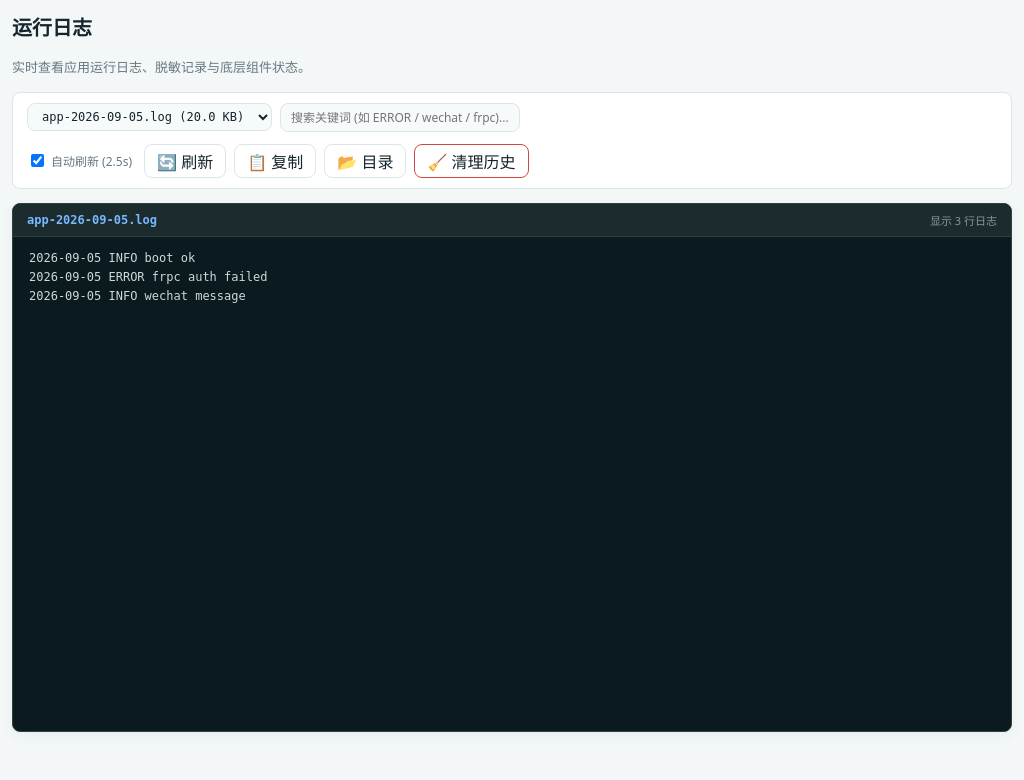
LogsView › 无匹配时显示空态占位文案
Type "不存在的词" into the field with class "input-search". click: (400, 117)
box: [280,103,520,132]
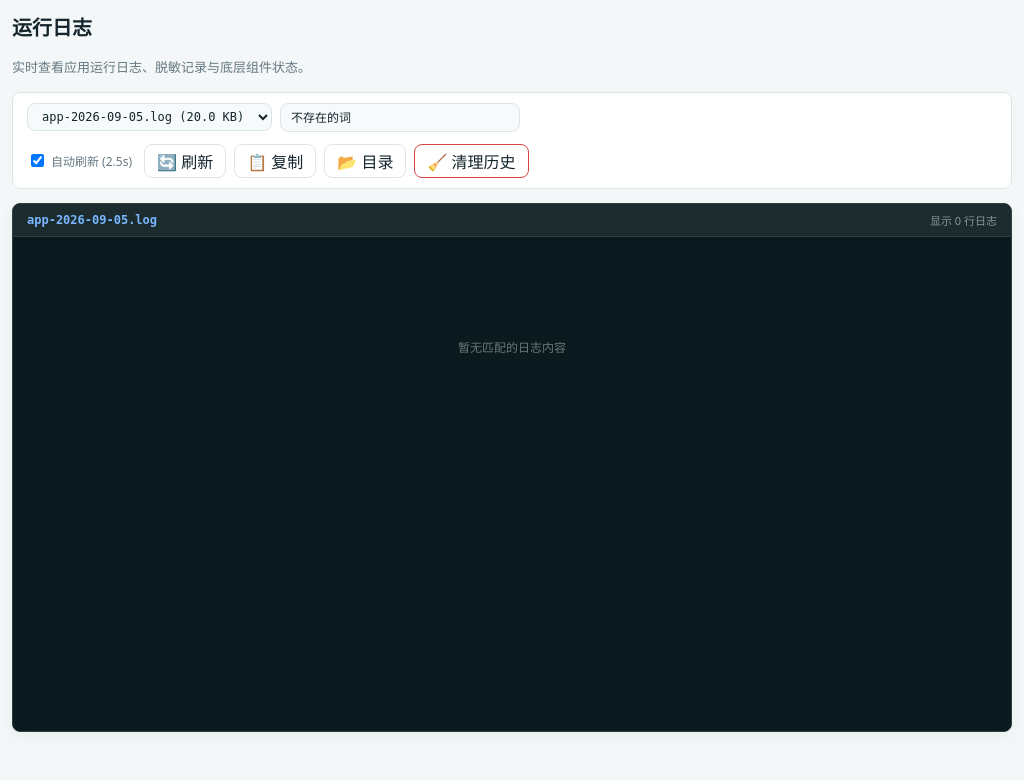
Check: the text with class "empty-logs" reads "暂无匹配的日志内容", box [458,341,566,355]
